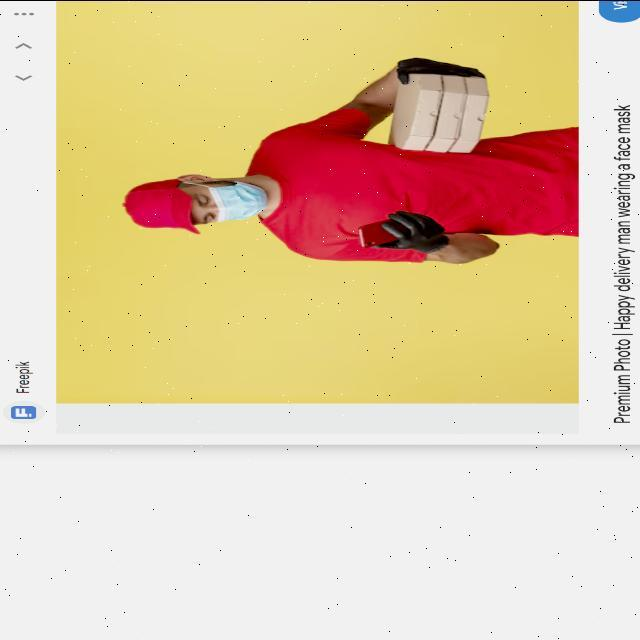face_mask: (178, 170, 272, 231)
